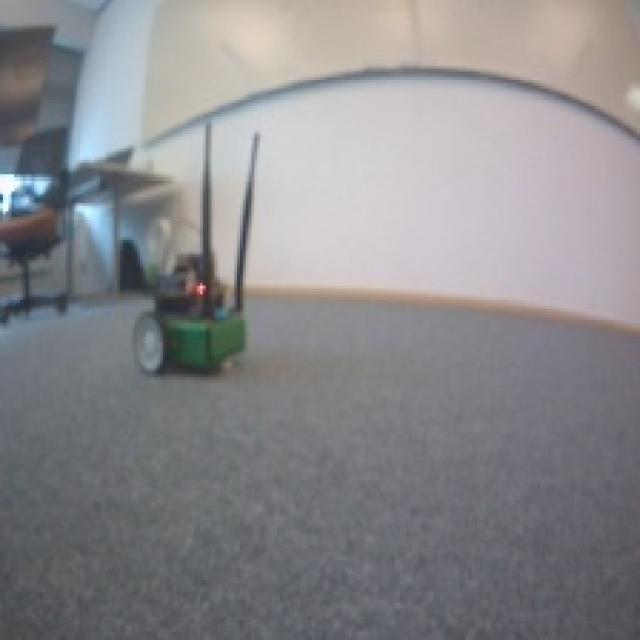robot: (133, 283, 246, 372)
